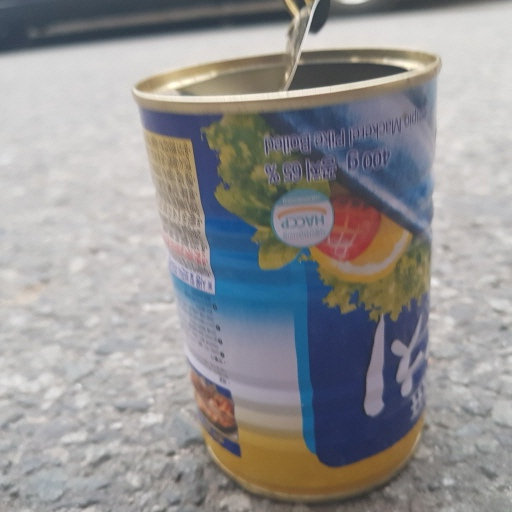Metal_1: (133, 1, 445, 506)
